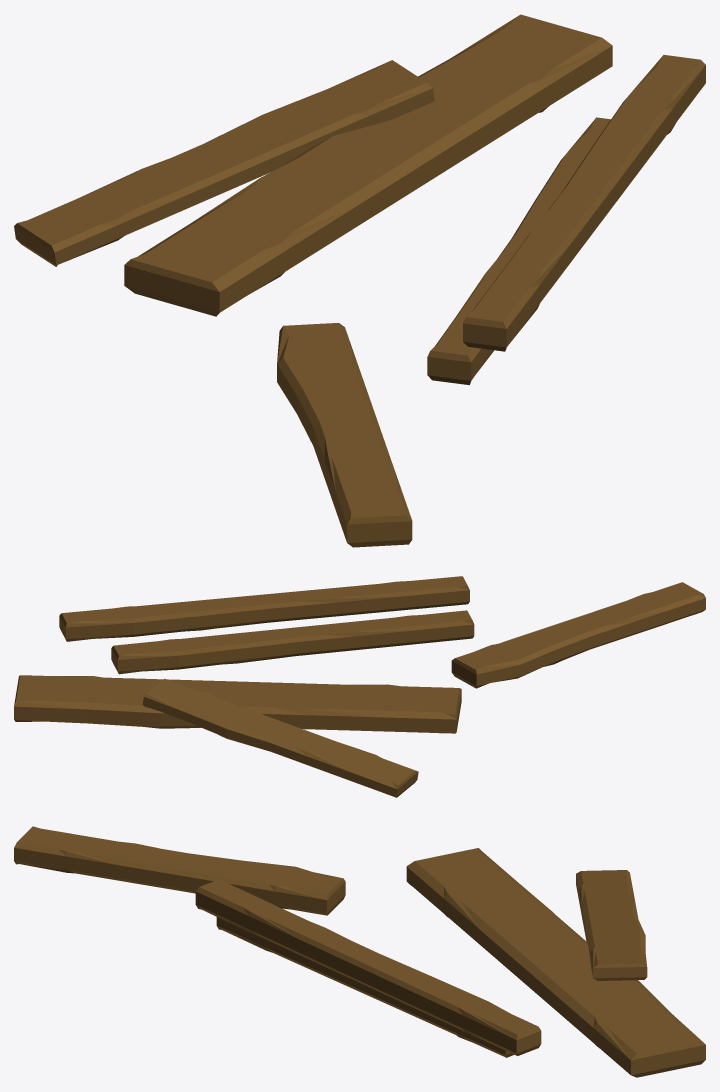
File: доски.fbx
The picture shows the model from 3 angles, top to bottom: view 1: azimuth 30°, elevation 25°; view 2: azimuth 150°, elevation 25°; view 3: azimuth 270°, elevation 25°; orthographic projection. The views are drawn at different scales.
Visible parts, largest first — view 1: хуита; view 2: хуита; view 3: хуита.
Part boxes in pixels (x1=…): хуита: x1=14, y1=14, x2=705, y2=547; хуита: x1=14, y1=576, x2=705, y2=797; хуита: x1=14, y1=826, x2=705, y2=1077.
Size of the model in its own units: 211 by 26.61 by 252.
